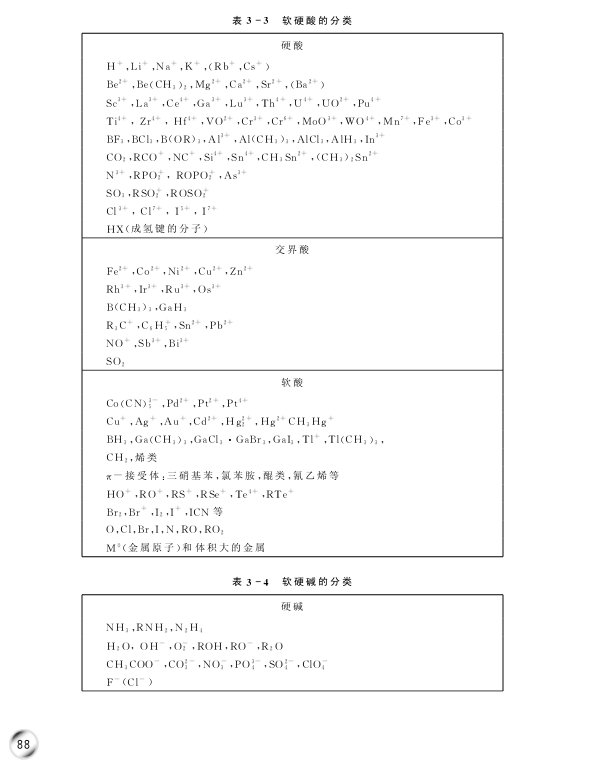table: (80, 31, 503, 557), (80, 593, 503, 691)
